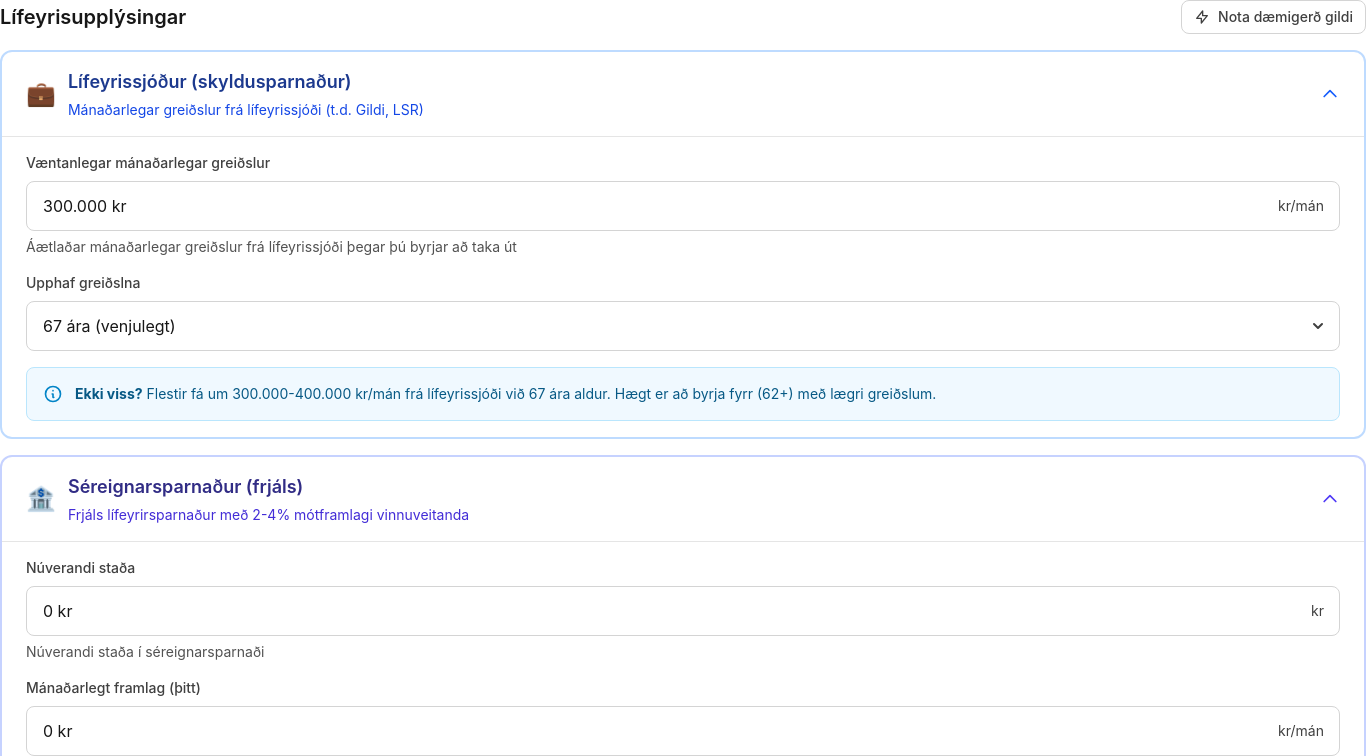
Test case: PensionInputs › Lífeyrissjóður Section › collapses and expands lífeyrissjóður section
Expected: the field labelled "Væntanlegar mánaðarlegar greiðslur" is shown, [26, 181, 1340, 231]
# Click to collapse
Click the element that starts with "Lífeyrissjóður (skyldusparnaður)".
click(225, 94)  # box [26, 68, 424, 120]
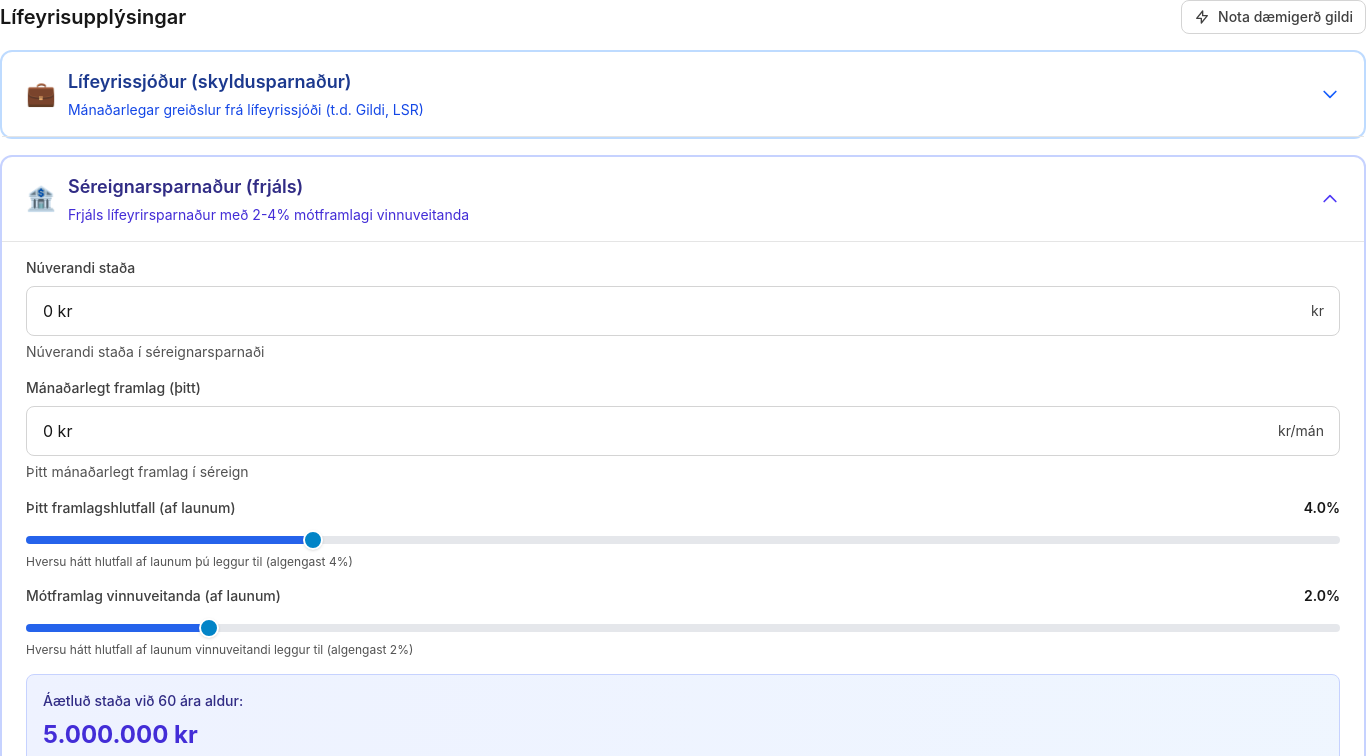
Expected: the label labelled "Væntanlegar mánaðarlegar greiðslur" is gone
# Click to expand again
Click the element that starts with "Lífeyrissjóður (skyldusparnaður)".
click(225, 94)  # box [26, 68, 424, 120]
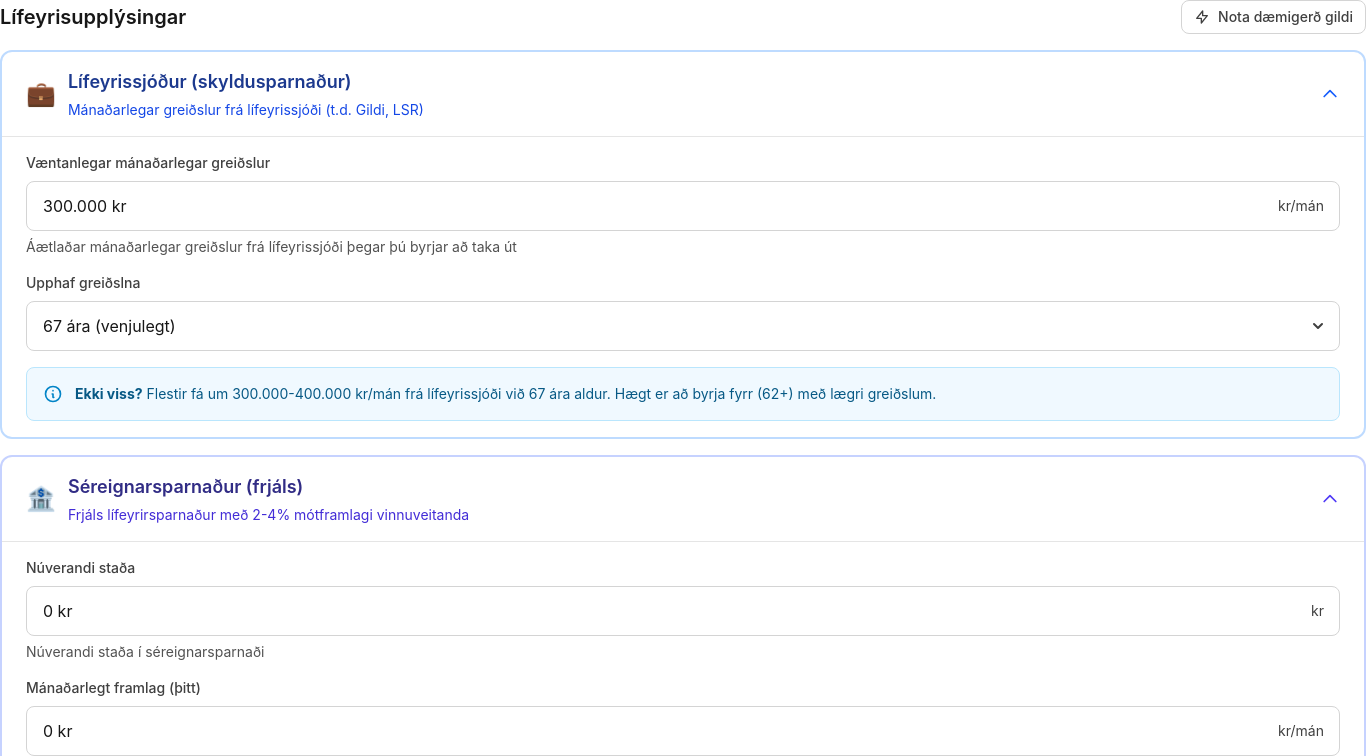
Expected: the field labelled "Væntanlegar mánaðarlegar greiðslur" is shown, [26, 181, 1340, 231]
